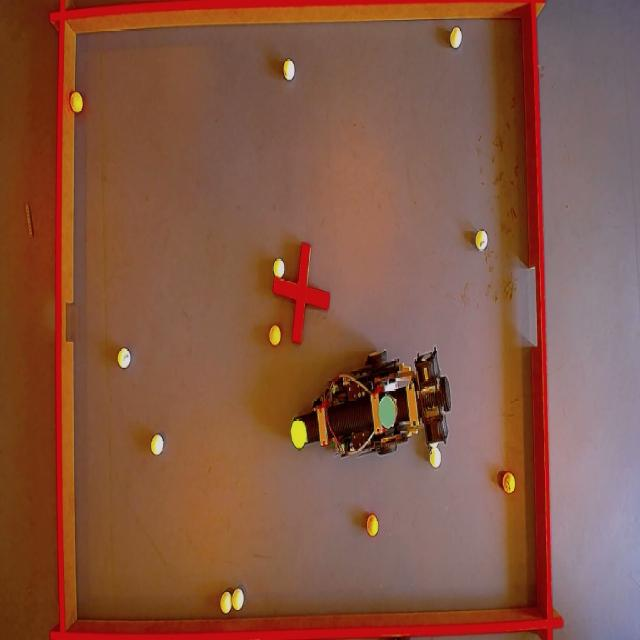orange: (366, 514, 382, 536), (69, 91, 84, 112), (502, 474, 518, 493), (267, 327, 281, 346)
robot: (291, 353, 459, 463)
robot-front: (288, 418, 308, 448)
robot-rear: (375, 391, 396, 429)
white: (449, 26, 464, 47), (152, 434, 166, 456), (117, 346, 131, 367), (282, 58, 295, 79), (231, 588, 243, 609), (430, 448, 443, 467), (272, 258, 284, 278), (221, 592, 233, 612), (475, 232, 487, 248)
